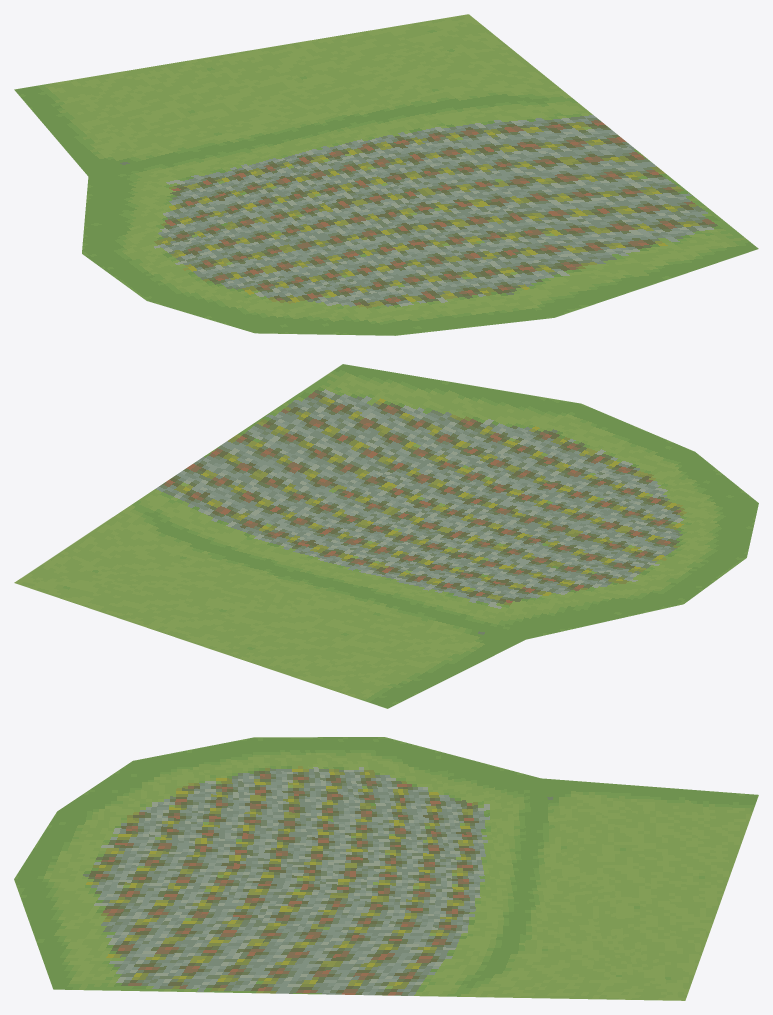
The model's file is kd_stage_1366d7_21_0.glb.
The picture shows the model from 3 angles, top to bottom: view 1: azimuth 30°, elevation 25°; view 2: azimuth 150°, elevation 25°; view 3: azimuth 270°, elevation 25°; orthographic projection. The views are drawn at different scales.
Parts seen in each view (by area): view 1: kd_stage_1366d7_21_0; view 2: kd_stage_1366d7_21_0; view 3: kd_stage_1366d7_21_0.
Part boxes in pixels (box(x1,y1,x2,y2)): kd_stage_1366d7_21_0: box(14, 14, 758, 335); kd_stage_1366d7_21_0: box(14, 364, 758, 708); kd_stage_1366d7_21_0: box(14, 737, 758, 1000).
Size of the model in its own units: 25 by 4.77e-06 by 29.83.
Materials: 1 (1 with a texture image).
